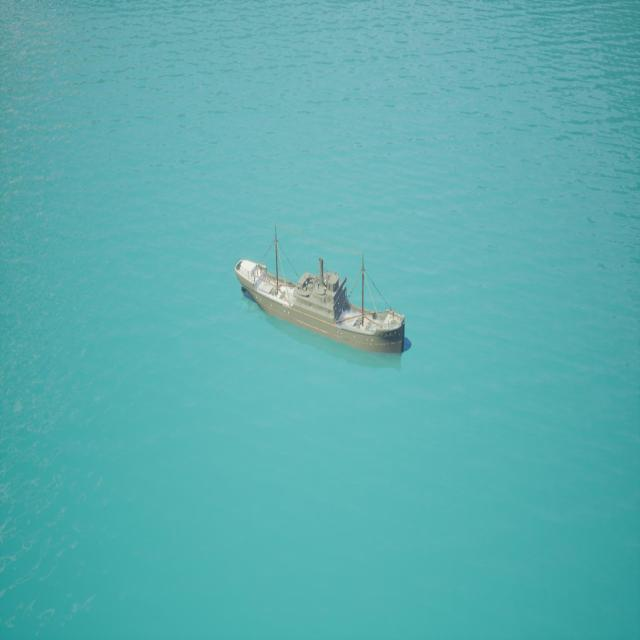fishing ship: (234, 225, 408, 363)
